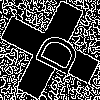D: (25, 25, 82, 79)
